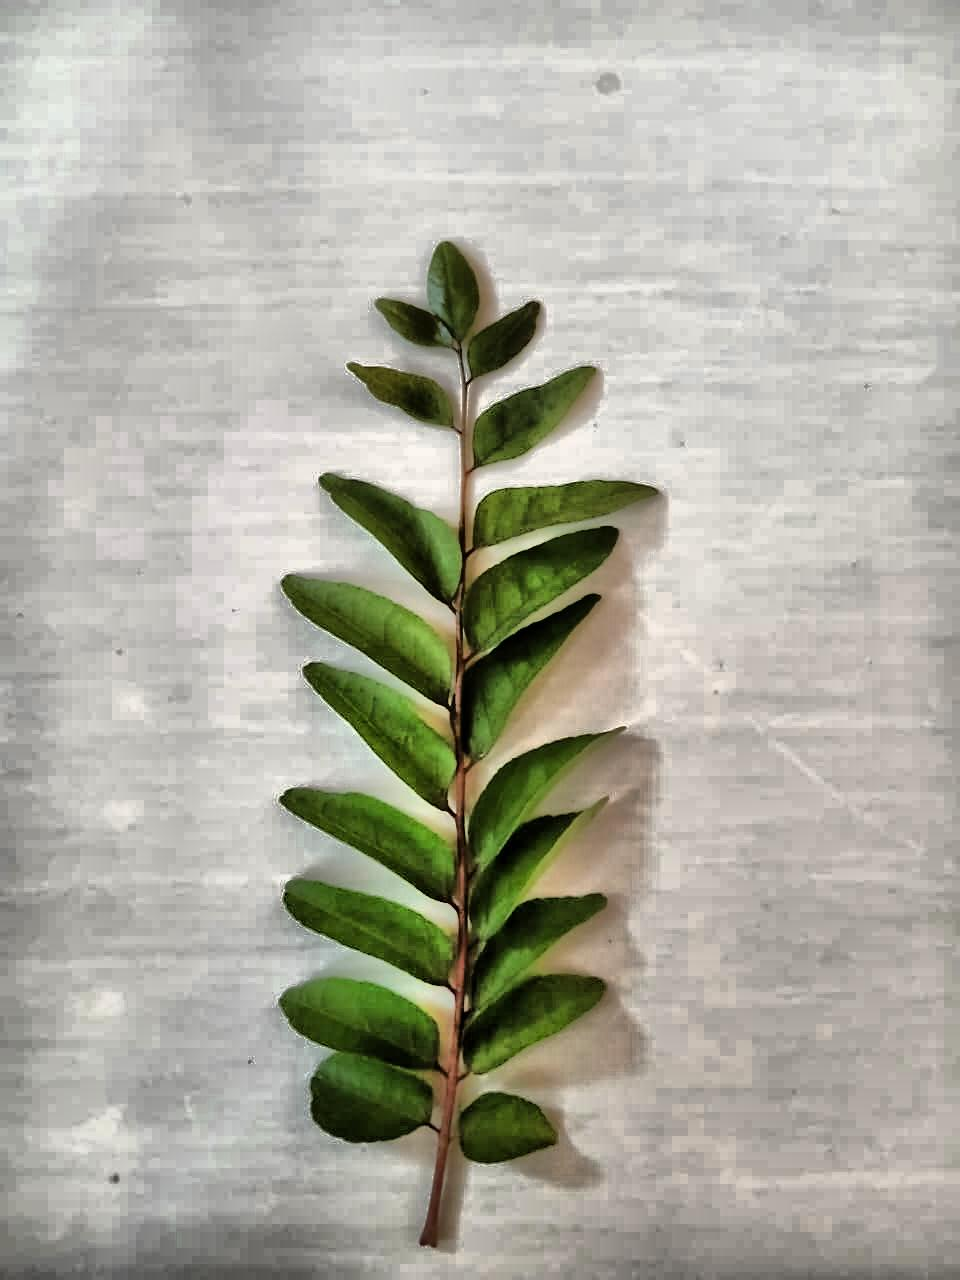daun kari: (281, 242, 658, 1246)
